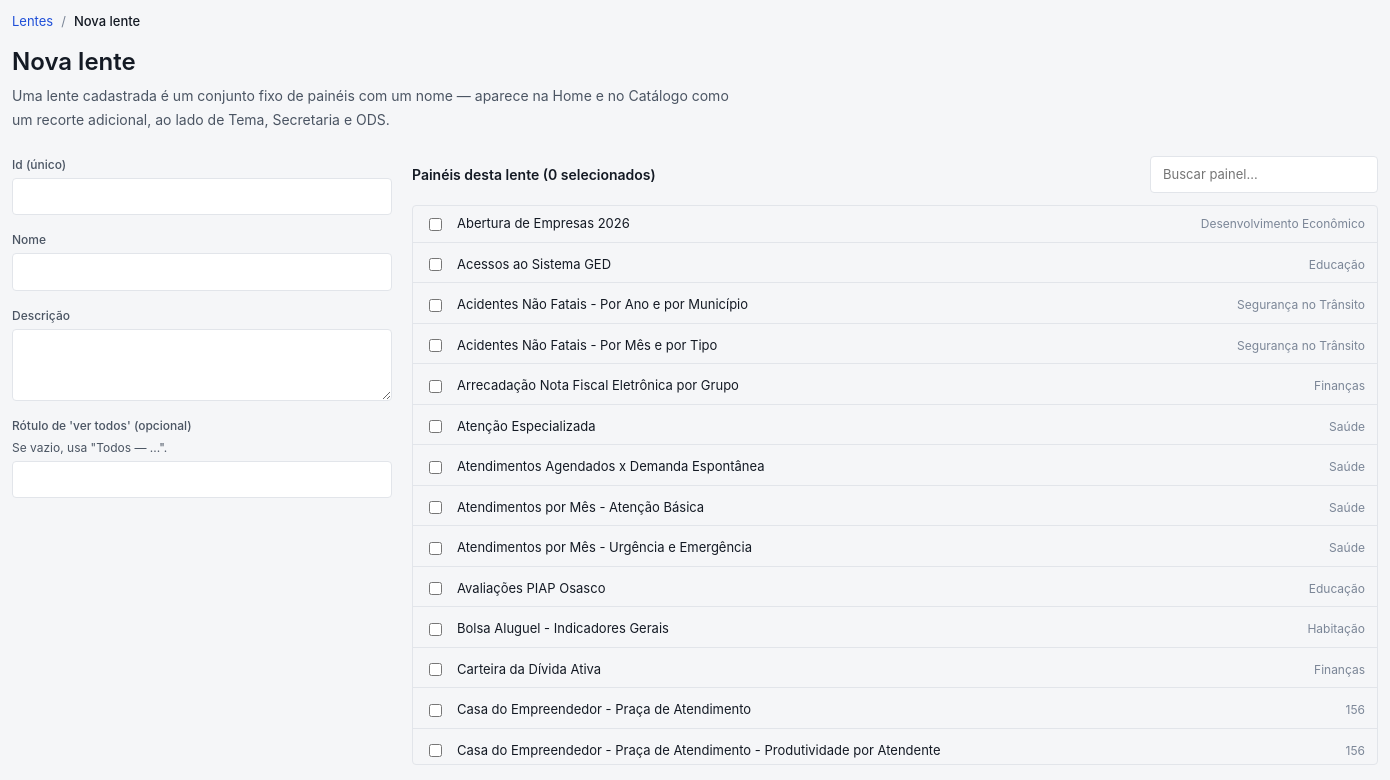
Scenario: LensEditorPage › filtra a lista de painéis pela busca
Type "Trabalho e Emprego" into the search field named "Buscar painel para adicionar à lente".
click(1264, 175); type("Trabalho e Emprego")  # box [1150, 156, 1378, 193]
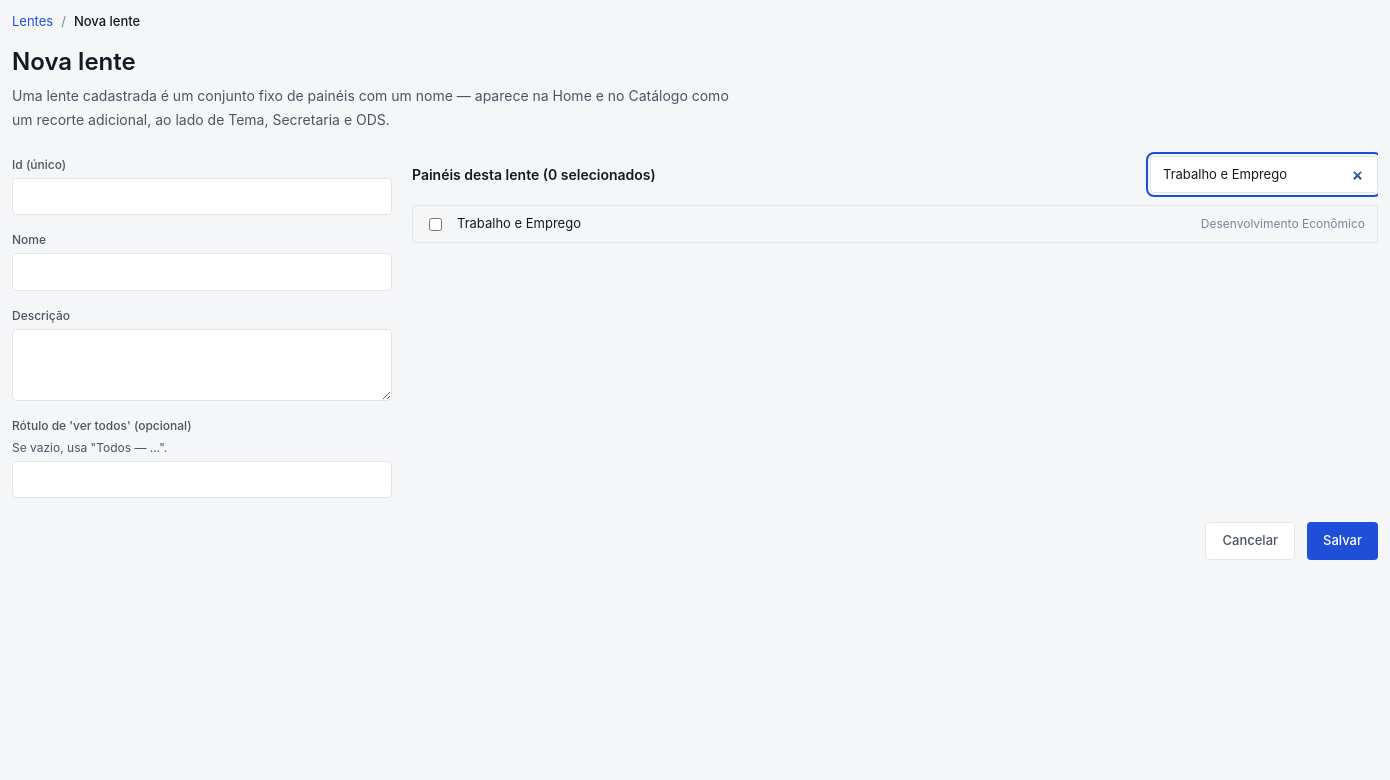
Check: the text "Trabalho e Emprego" is shown, box [457, 214, 581, 234]
